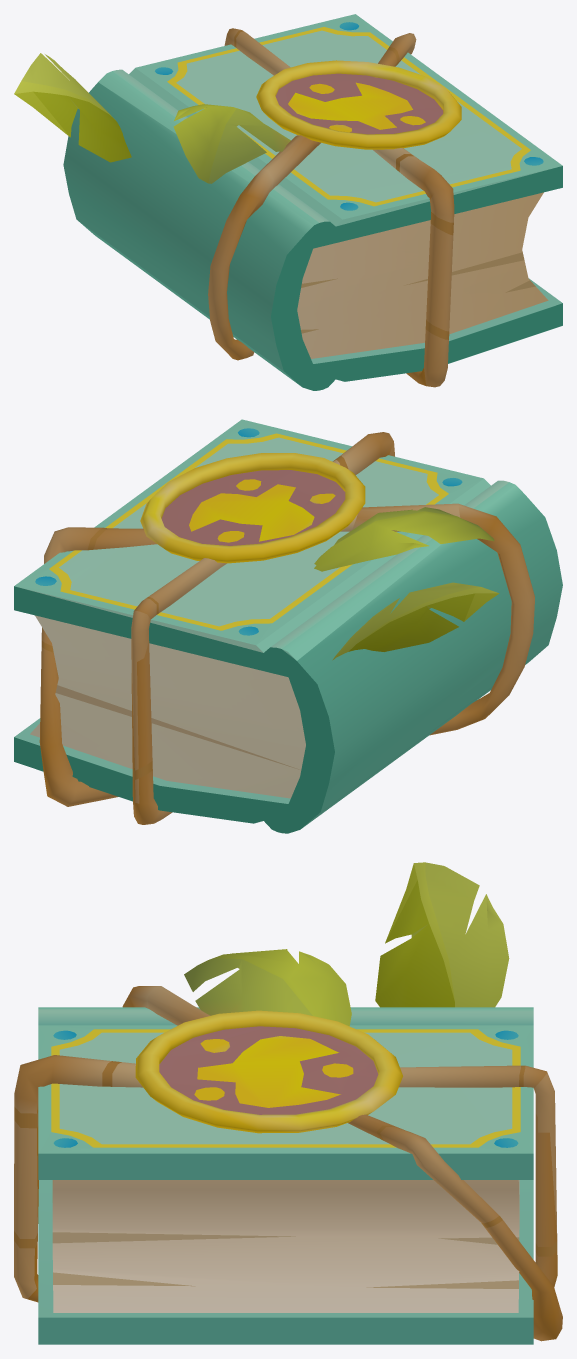
The model's file is green3d.glb.
3 renders of one model, top to bottom at view 1: azimuth 30°, elevation 25°; view 2: azimuth 150°, elevation 25°; view 3: azimuth 270°, elevation 25°, orthographic. The views are drawn at different scales.
Parts seen in each view (by area): view 1: Box001; view 2: Box001; view 3: Box001.
Part boxes in pixels (x1,y1,x2,y2): Box001: (14,14,562,390); Box001: (14,419,562,833); Box001: (14,862,562,1344).
Size of the model in its own units: 36.14 by 21.63 by 35.51.
